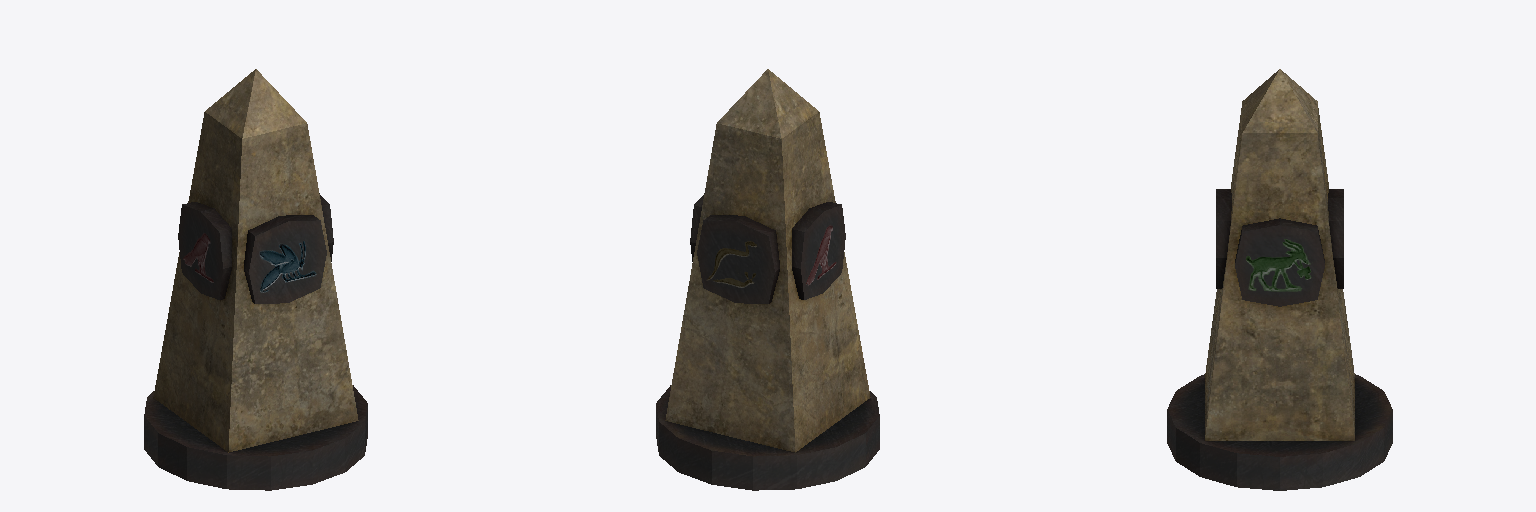
3 renders of one model, left to right at view 1: azimuth 30°, elevation 25°; view 2: azimuth 150°, elevation 25°; view 3: azimuth 270°, elevation 25°, orthographic.
Parts seen in each view (by area): view 1: obeliskmesh; view 2: obeliskmesh; view 3: obeliskmesh.
Part boxes in pixels (x1,y1,x2,y2): obeliskmesh: (144, 69, 367, 490); obeliskmesh: (656, 69, 879, 490); obeliskmesh: (1167, 69, 1392, 490).
Size of the model in its own units: 3 by 5.5 by 3.
Materials: 1 (1 with a texture image).